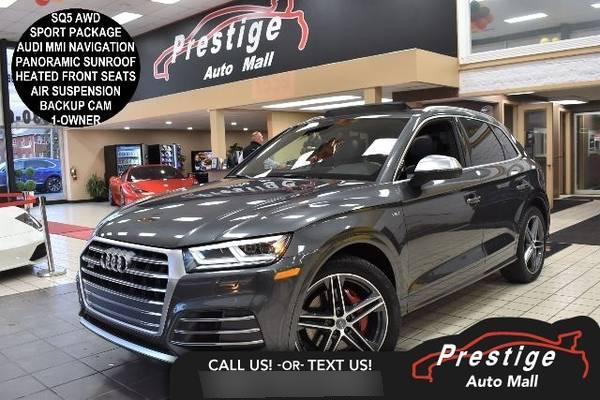Front_Bumper: (161, 257, 327, 369)
Front_Left_Door: (394, 167, 485, 311)
Front_Left_Window: (395, 117, 471, 181)
Front_Windshield: (285, 182, 411, 314), (226, 116, 406, 181)
Grille: (80, 233, 185, 353)
Hood: (97, 178, 400, 245)
Left_Headlight: (184, 231, 294, 271)
Rear_Fender: (524, 156, 546, 201)
Rear_Left_Door: (479, 156, 530, 276)
Rear_Left_Window: (463, 118, 526, 168)
Roof: (299, 108, 523, 184)
Wheel: (293, 255, 404, 369), (503, 208, 548, 282)
